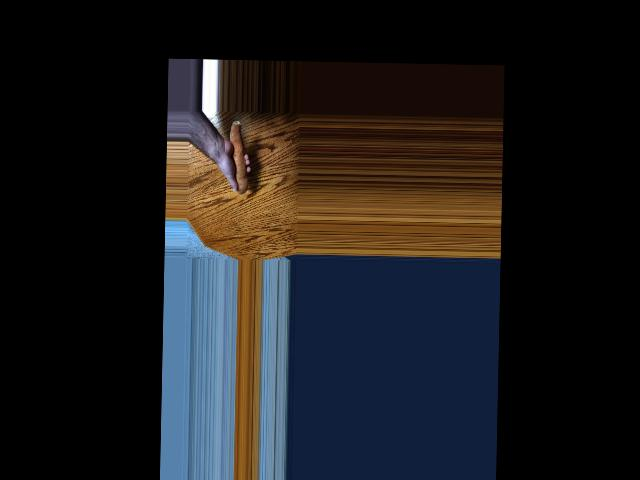sweet_potato: (226, 121, 252, 193)
